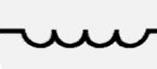inductor: (9, 18, 152, 54)
